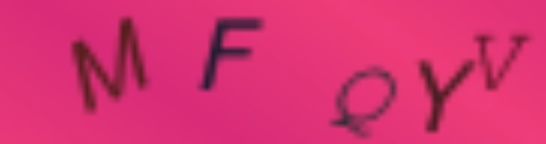F: (197, 13, 271, 92)
M: (71, 14, 152, 117)
Q: (329, 64, 401, 140)
V: (472, 31, 529, 95)
Y: (413, 57, 477, 135)
